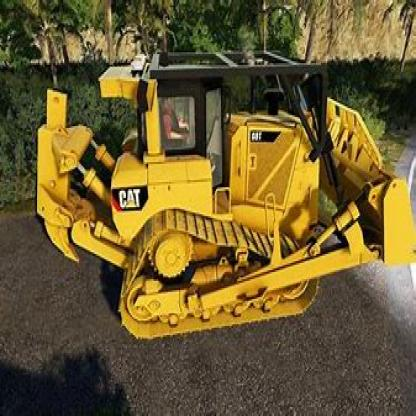bull_dozer/loader/grader: (29, 38, 414, 342)
